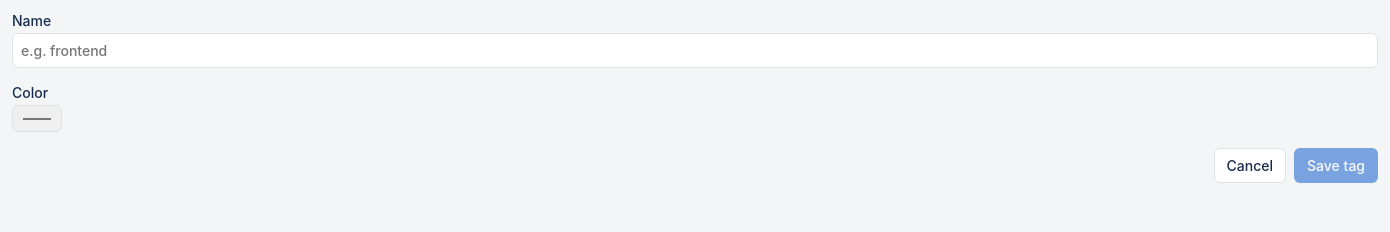
Test: TagForm › surfaces submission errors from the API
The width and height of the screenshot is (1390, 232).
Type "infra" into the field labelled "Name" at (695, 50), box [12,33,1378,68]
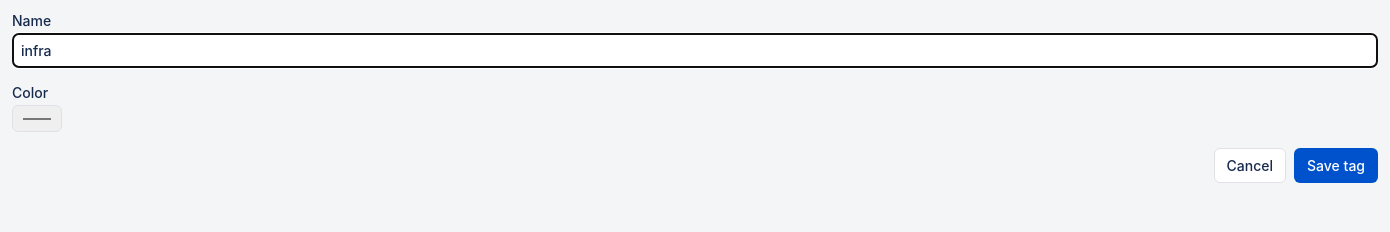
Click the button "Save tag" at (1336, 166), box [1294,148,1378,183]
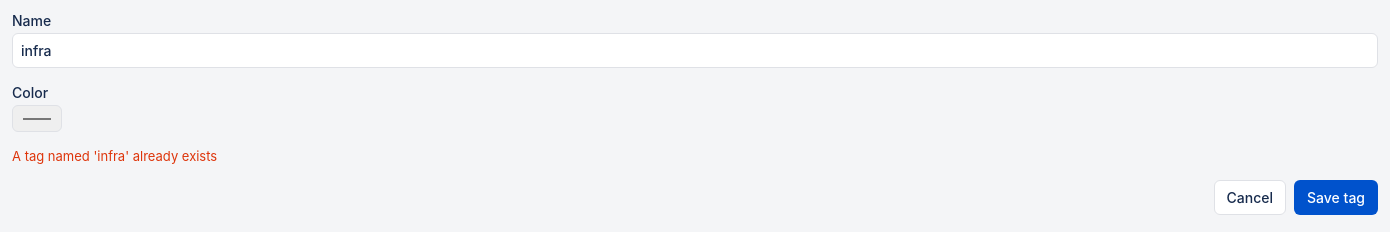
Now the message shows "already exists", box [12,148,217,164]
